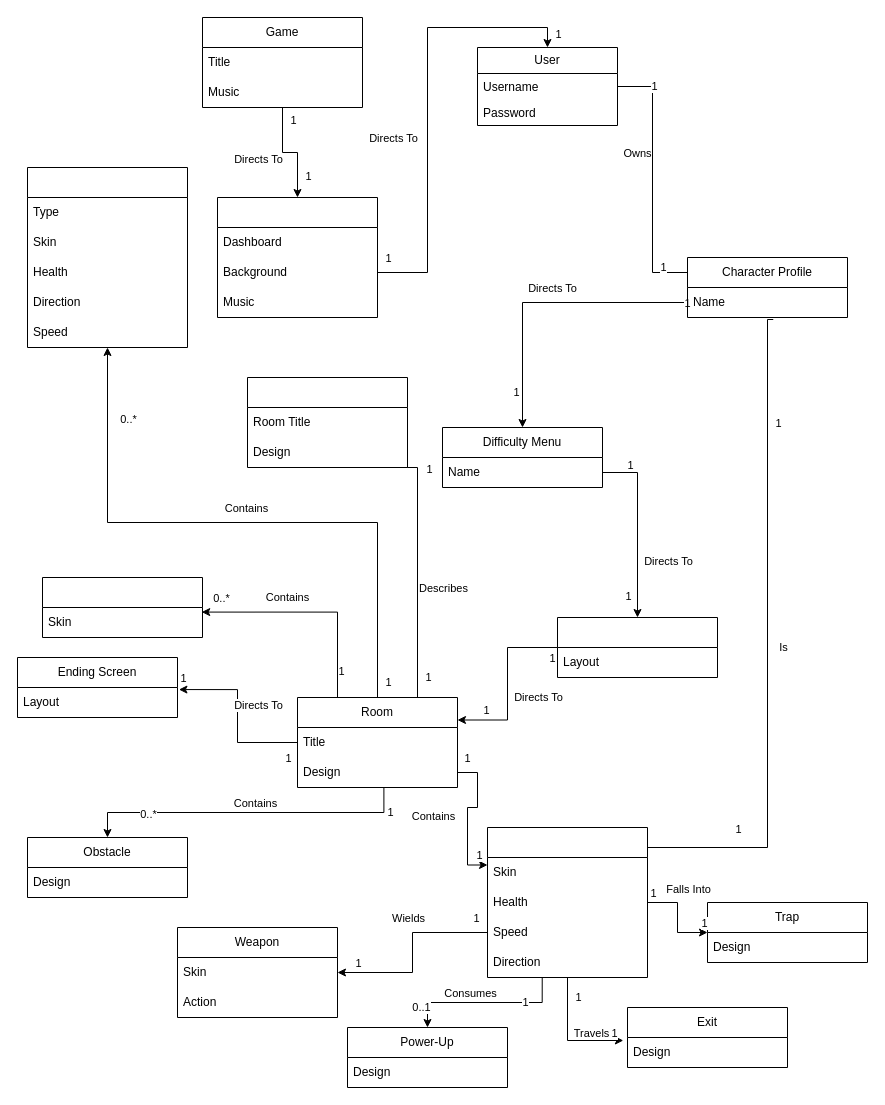
Some shapes in this 885 by 1105 pixel diagram are drawn without their labels. Each missing label, with the box of its shape:
Character: (486, 826, 648, 978)
Enemy: (26, 166, 188, 348)
Game Screen: (556, 616, 718, 678)
Main Menu: (216, 196, 378, 318)
Map: (246, 376, 408, 468)
NPC: (42, 576, 202, 638)
